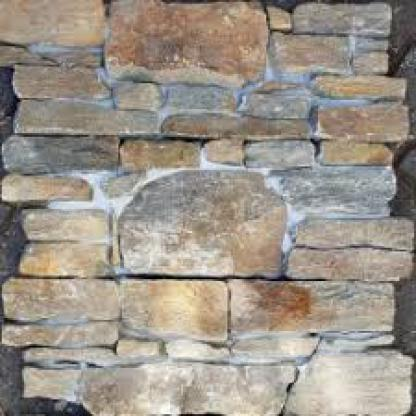Metamorphic_Quartize: (118, 166, 288, 278), (87, 0, 282, 82), (11, 57, 117, 107), (0, 162, 98, 212), (313, 63, 414, 100)
